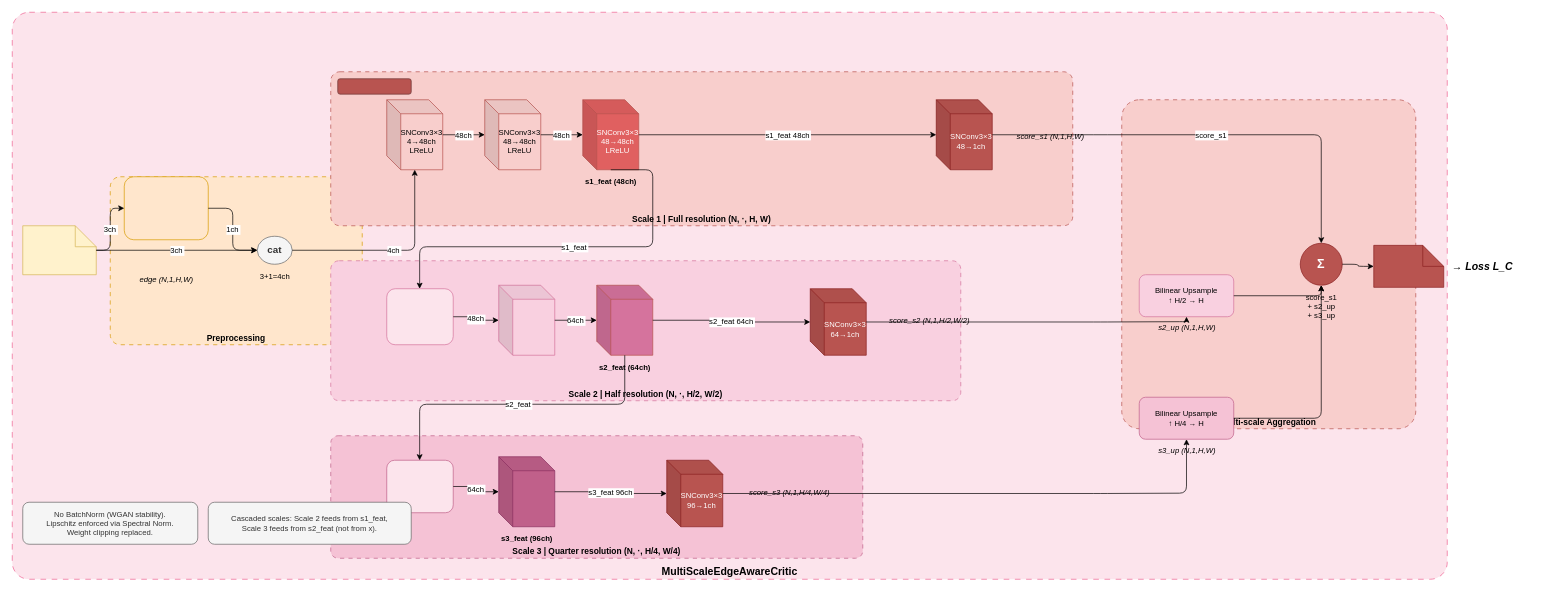
The diagram is 1547 pixels wide and 592 high, and some of its shapes have lost their labels. The box of each missing label's shape, as (x1, y1, x2, y2) in pixels:
AvgPool2d stride=2 ↓ H/2, W/2: (386, 288, 453, 345)
AvgPool2d stride=2 ↓ H/4, W/4: (386, 460, 453, 513)
Image (N, 3, H, W): (22, 225, 96, 275)
Score (N,1,H,W): (1373, 245, 1444, 287)
SNConv3×3 48→64ch LReLU: (498, 285, 555, 355)
SNConv3×3 64→64ch LReLU: (596, 285, 653, 355)
SNConv3×3 64→96ch LReLU: (498, 456, 555, 527)
Sobel Edge Magnitude (fixed kernels): (124, 176, 208, 240)
Spectral Norm: (337, 78, 411, 94)
